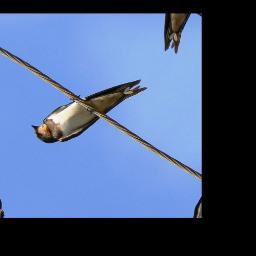Swallow: (24, 50, 150, 167)
